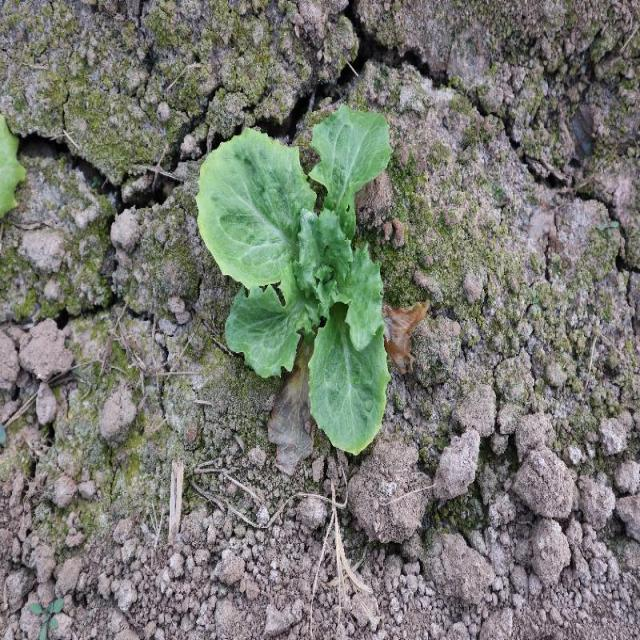crop: (198, 104, 393, 456)
